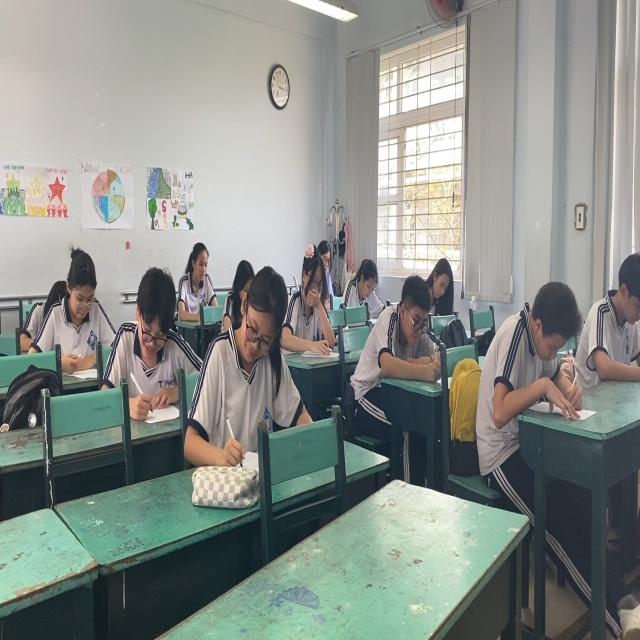not_cheating: (200, 245, 283, 441), (483, 266, 575, 420), (108, 270, 194, 410), (48, 228, 118, 363), (585, 238, 640, 386), (375, 280, 444, 387), (289, 252, 328, 335), (340, 238, 384, 307), (175, 245, 221, 307), (423, 252, 452, 310)
